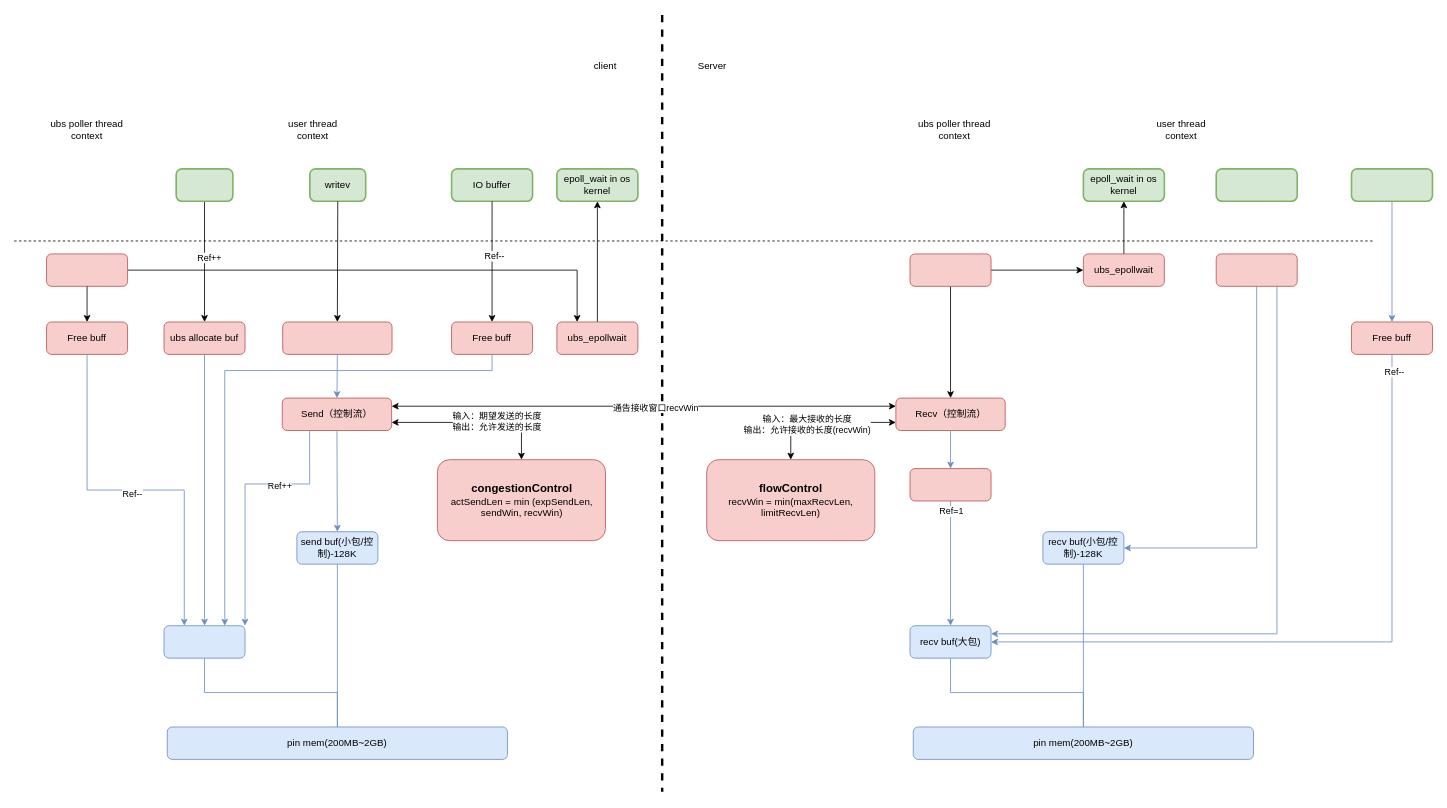
The diagram is 1447 pixels wide and 808 high, and some of its shapes have lost their labels. Each missing label, with the centre of its shape:
"Alloc buff" goes at point 950,484.
"readv" goes at point 1256,185.
"send buf(大包)" goes at point 204,641.
"Serialization" goes at point 204,185.
"ubs_readv zero copy" goes at point 1256,269.
"ubsocket alloc send buf" goes at point 337,337.
"UnSerialization" goes at point 1391,185.
"wait_jfc/poll_jfc" goes at point 87,269.
"wait_jfc/poll_jfc 事件处理" goes at point 950,269.
